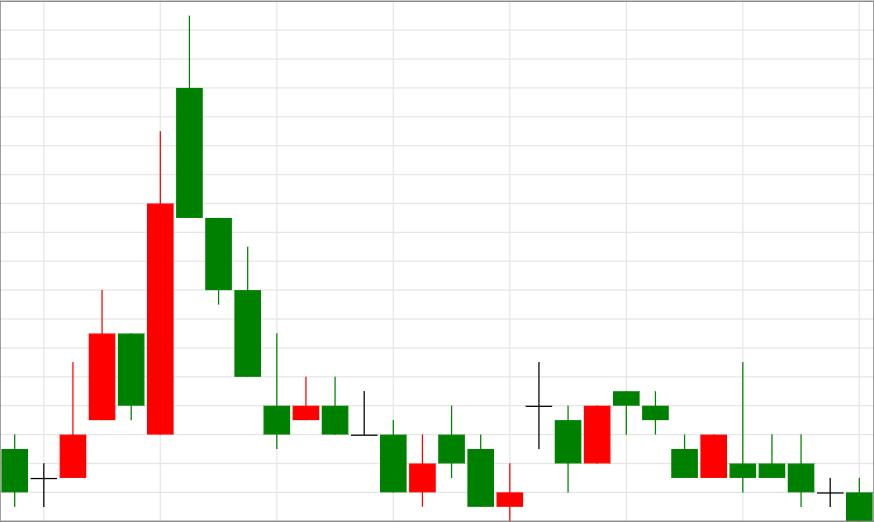three_black_crows_fall: (30, 15, 262, 506)
